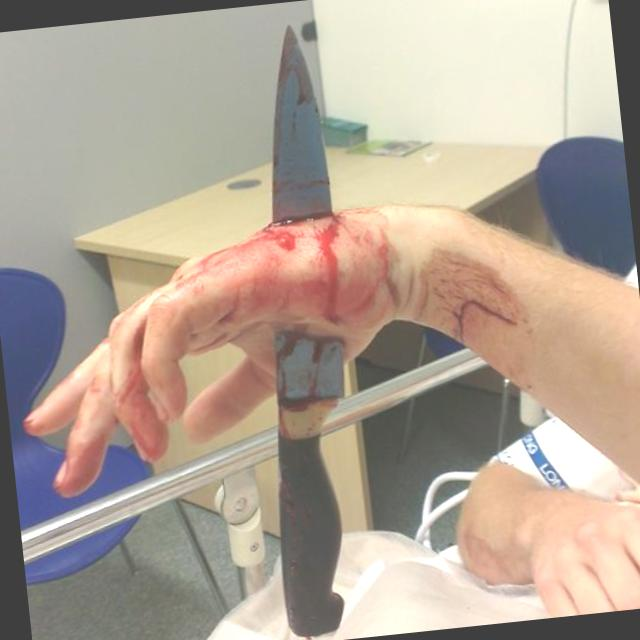knife: (183, 12, 362, 426)
